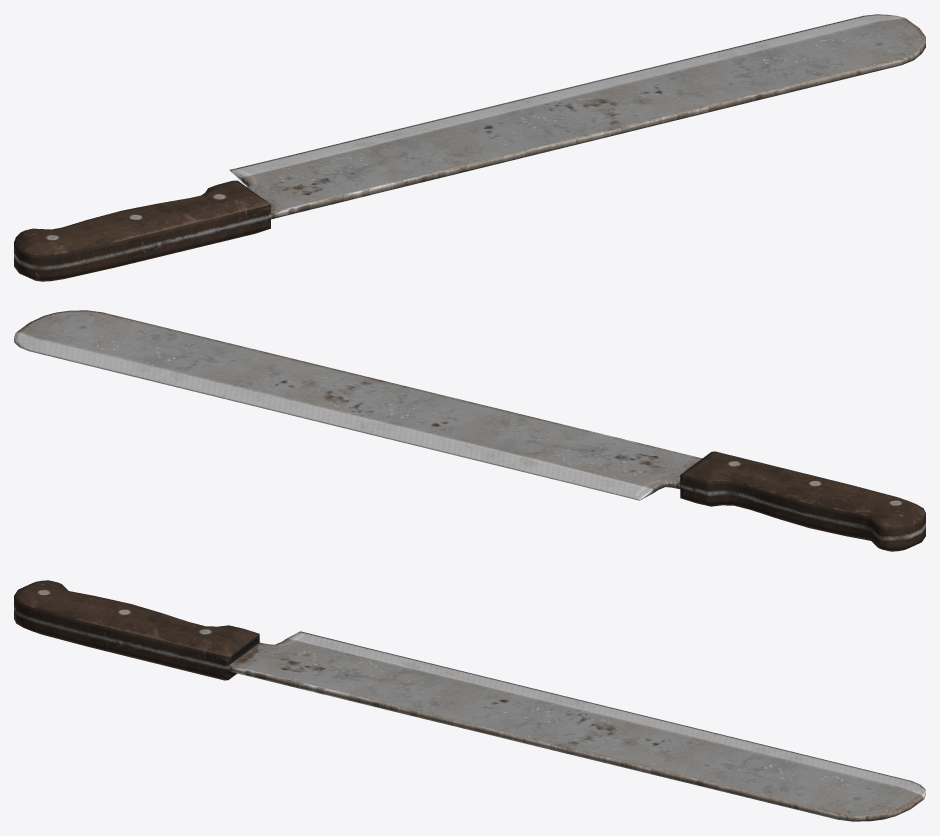
The model's file is SM_Kitchenware03_3_LOD0.glb.
3 renders of one model, top to bottom at view 1: azimuth 30°, elevation 25°; view 2: azimuth 150°, elevation 25°; view 3: azimuth 330°, elevation 25°, orthographic. The views are drawn at different scales.
Visible parts, largest first — view 1: SM_Kitchenware03_3_LOD0; view 2: SM_Kitchenware03_3_LOD0; view 3: SM_Kitchenware03_3_LOD0.
Part boxes in pixels (x1,y1,x2,y2): SM_Kitchenware03_3_LOD0: [14, 14, 925, 281]; SM_Kitchenware03_3_LOD0: [14, 310, 925, 551]; SM_Kitchenware03_3_LOD0: [14, 580, 925, 821].
Size of the model in its own units: 0.5859 by 0.0231 by 0.0647.
1 material, 1 textured.
